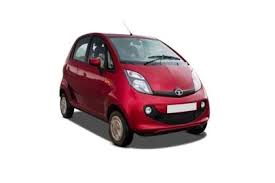Nano: (59, 30, 209, 151)
